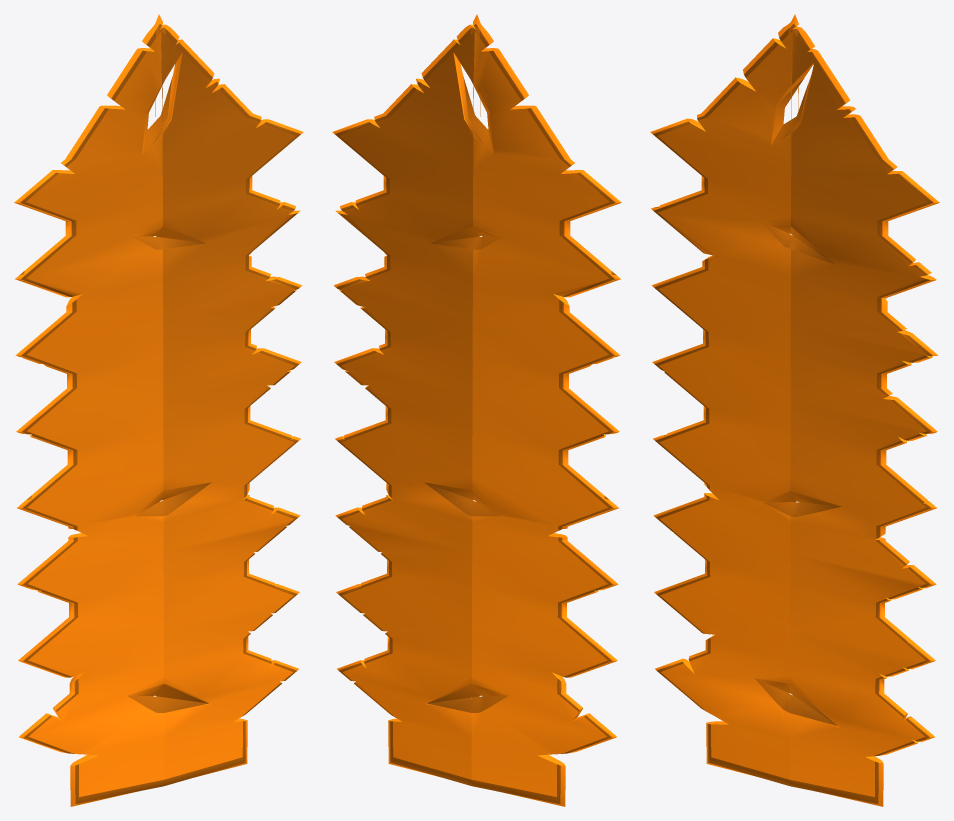
File: bronze_blade_scratched_030.glb
The picture shows the model from 3 angles, left to right: view 1: azimuth 30°, elevation 25°; view 2: azimuth 150°, elevation 25°; view 3: azimuth 330°, elevation 25°; orthographic projection.
Visible parts, largest first — view 1: bronze_blade_scratched.030; view 2: bronze_blade_scratched.030; view 3: bronze_blade_scratched.030.
Part boxes in pixels (x1=…): bronze_blade_scratched.030: x1=14, y1=14, x2=303, y2=806; bronze_blade_scratched.030: x1=332, y1=14, x2=621, y2=806; bronze_blade_scratched.030: x1=650, y1=14, x2=939, y2=806.
Size of the model in its own units: 4.48 by 11.41 by 0.2879.
1 material, 1 textured.
